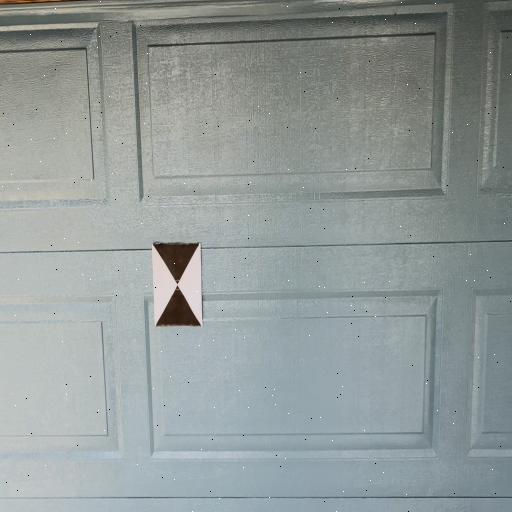target: (151, 244, 203, 326)
